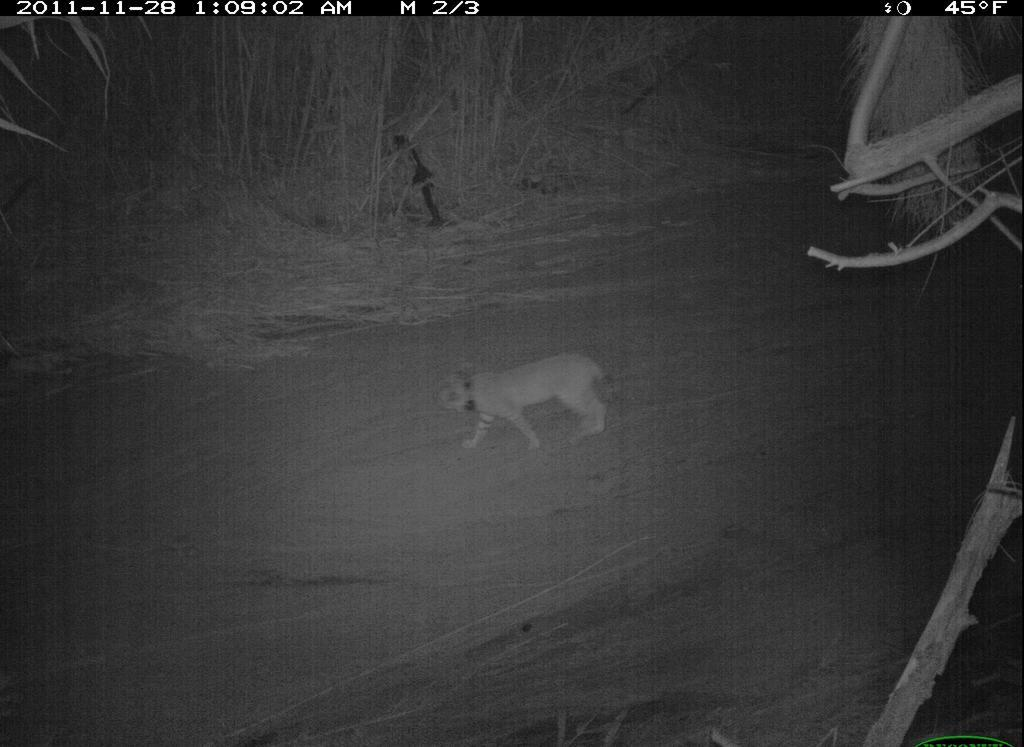bobcat: (432, 351, 619, 456)
